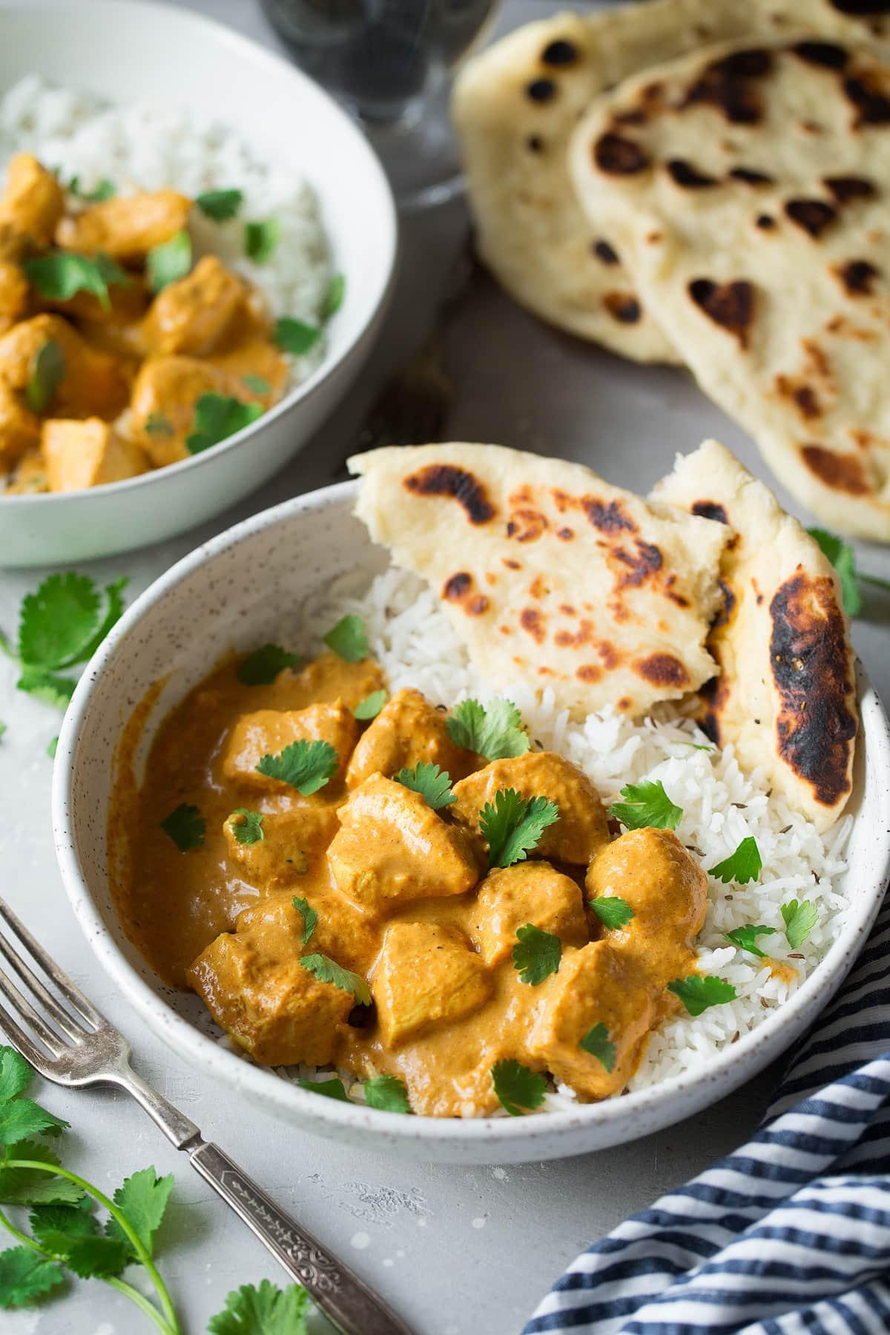chicken: (89, 718, 668, 1097), (4, 198, 241, 481)
roti: (441, 20, 890, 518), (371, 439, 890, 733)
